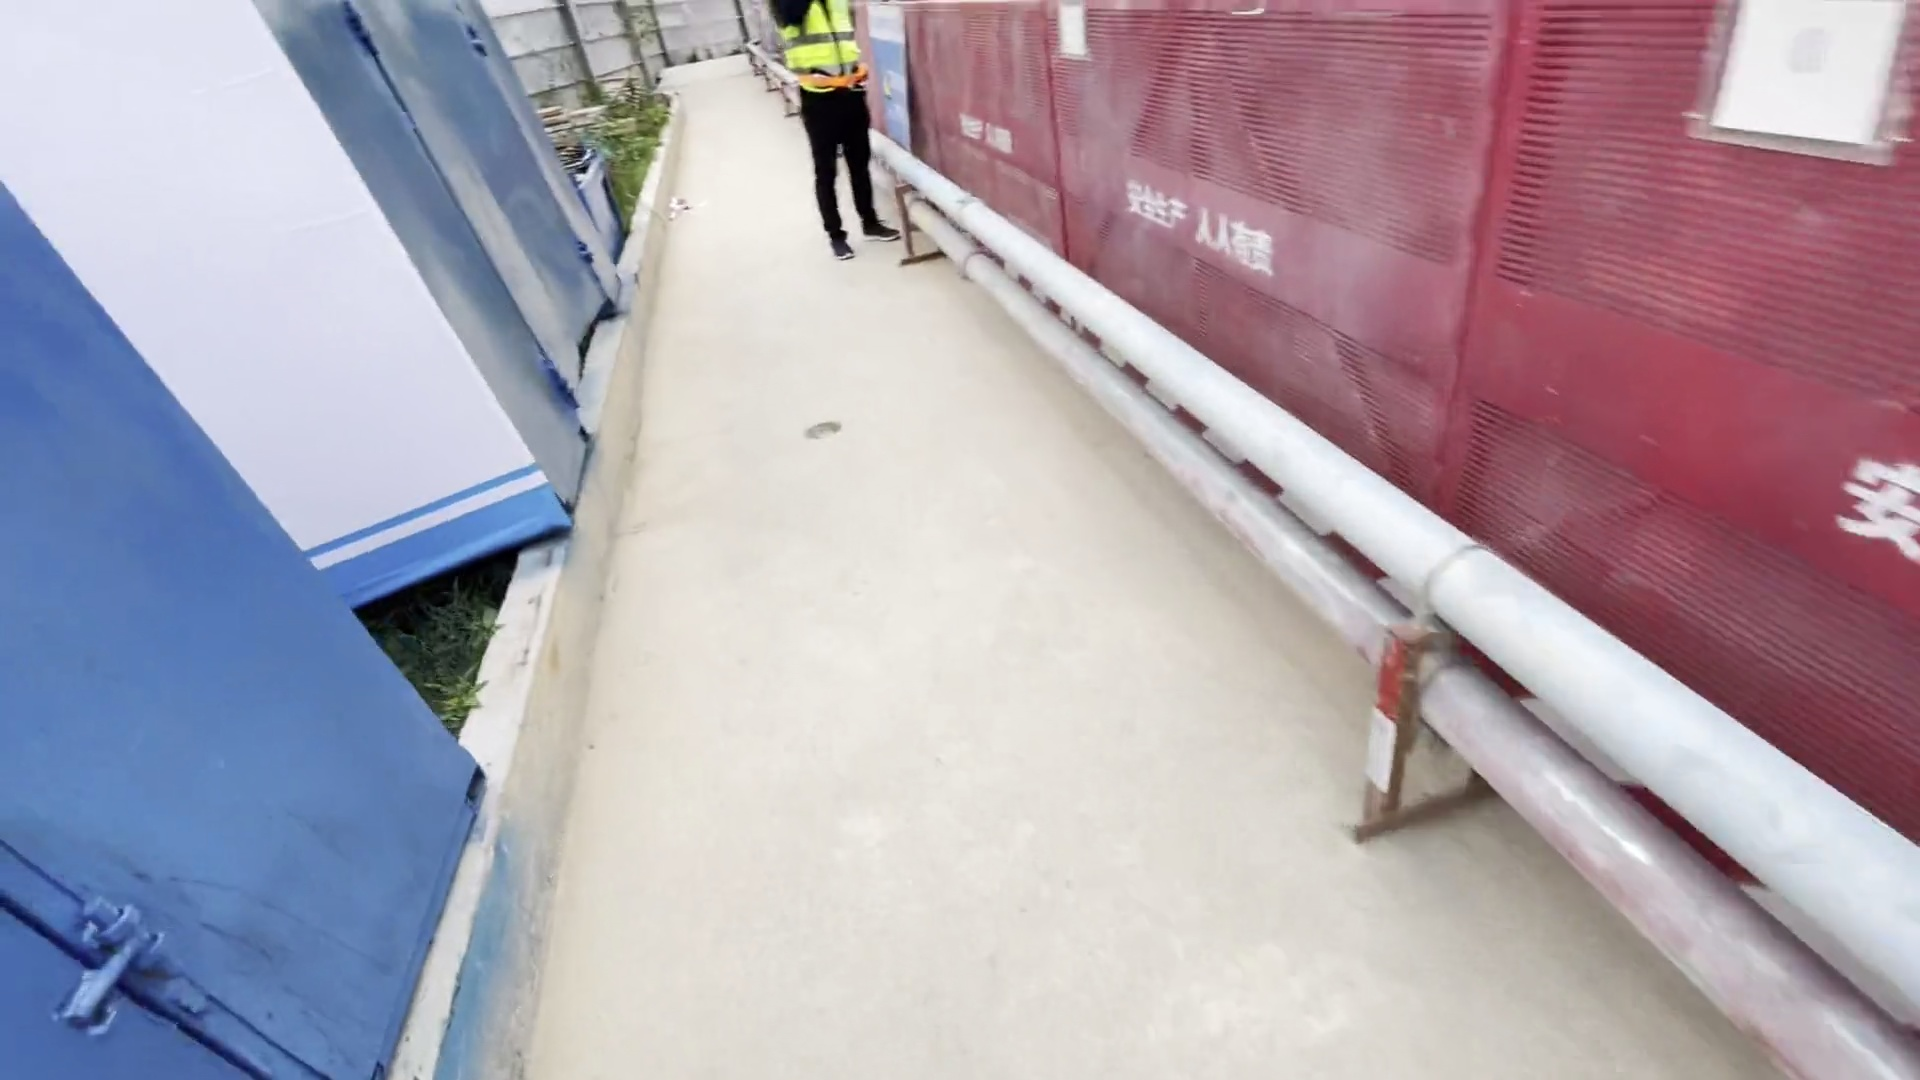fence: (797, 1, 1911, 825)
person: (765, 6, 914, 275)
vest: (766, 3, 884, 108)
